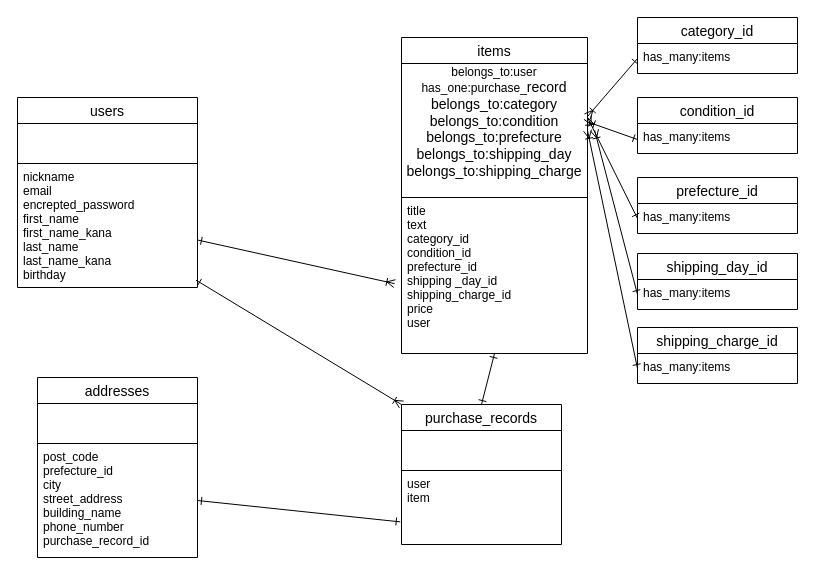
The diagram is 815 pixels wide and 578 high, and some of its shapes have lost their labels. The centre of each missing label's shape, as x and y in pixels:
"belongs_to:purchase_record" belongs at [117,423].
"has_many:items has_many:purchase_ records" belongs at [107,143].
"has_one:address belongs_to:item belongs_to:user" belongs at [481,450].
